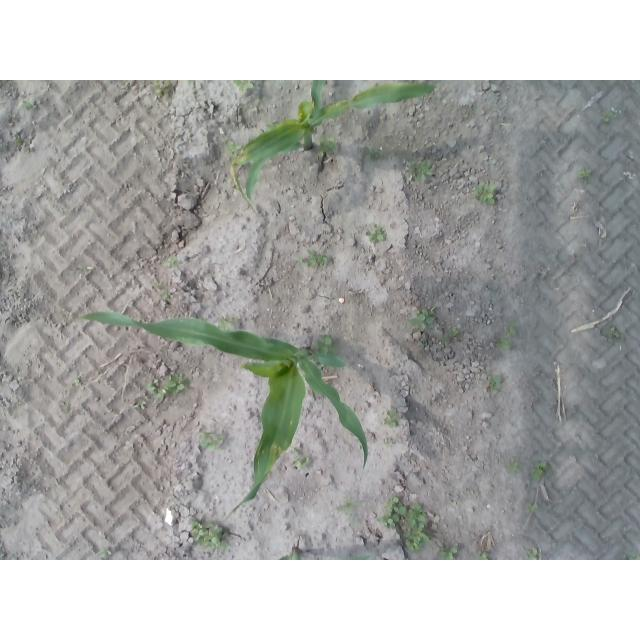Maize: (79, 311, 370, 517), (231, 80, 435, 212), (278, 545, 303, 560)
Weeds: (395, 500, 428, 550), (193, 525, 224, 546), (410, 159, 435, 183), (475, 183, 498, 203), (411, 310, 433, 330), (302, 249, 326, 267), (438, 542, 458, 560), (295, 445, 310, 468), (377, 511, 399, 526), (503, 327, 518, 347), (383, 412, 401, 428), (366, 229, 386, 243), (201, 430, 219, 444), (321, 139, 340, 152), (319, 337, 333, 354), (445, 329, 460, 344), (168, 377, 184, 391), (224, 141, 240, 155), (487, 376, 505, 388), (579, 169, 593, 184), (235, 83, 253, 94), (219, 315, 232, 328), (609, 326, 619, 342), (157, 83, 171, 93), (146, 377, 158, 388), (604, 113, 616, 124), (534, 461, 545, 473), (476, 552, 488, 561), (167, 258, 178, 267), (510, 460, 519, 471), (134, 401, 148, 408), (76, 380, 85, 389)
